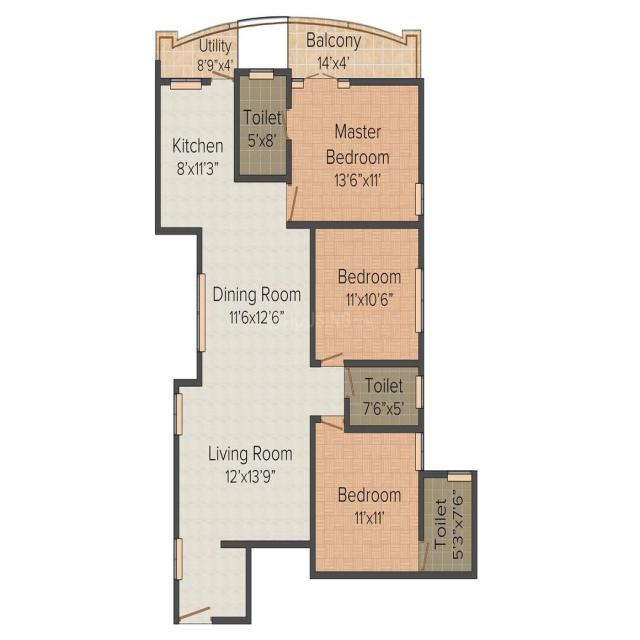Balcony-Sitout: (287, 16, 421, 83)
Bedroom: (309, 425, 423, 578), (311, 220, 425, 366)
Bedroom with Toilet: (286, 76, 423, 225)
Dining: (197, 228, 317, 381)
Kitchen: (153, 78, 239, 231)
Living: (172, 380, 311, 548)
Toilet: (233, 67, 293, 181), (417, 469, 478, 580), (344, 362, 423, 434)
Utility: (154, 21, 237, 85)
